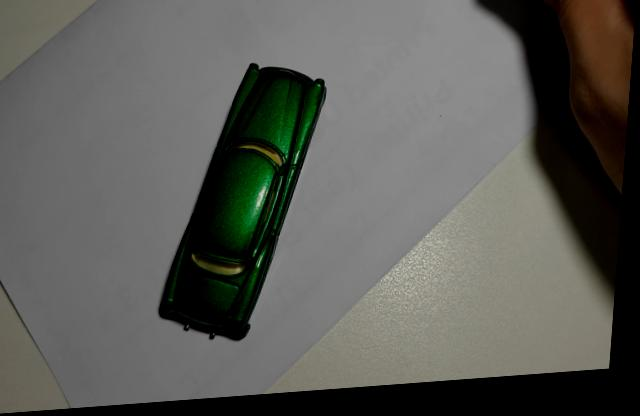06_MASERATI: (162, 68, 329, 346)
